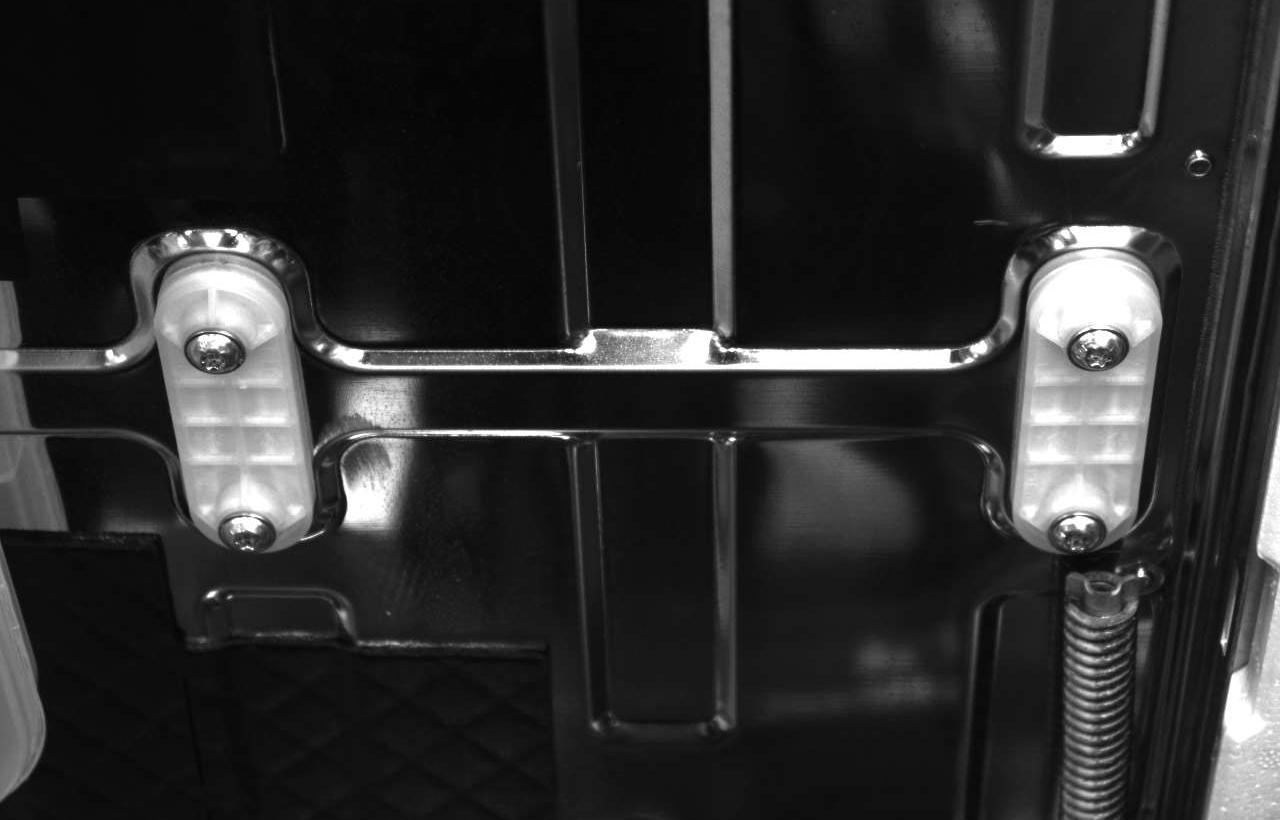vida-ok: (173, 321, 244, 388), (1064, 315, 1131, 382), (1044, 502, 1110, 561), (216, 507, 281, 565)
